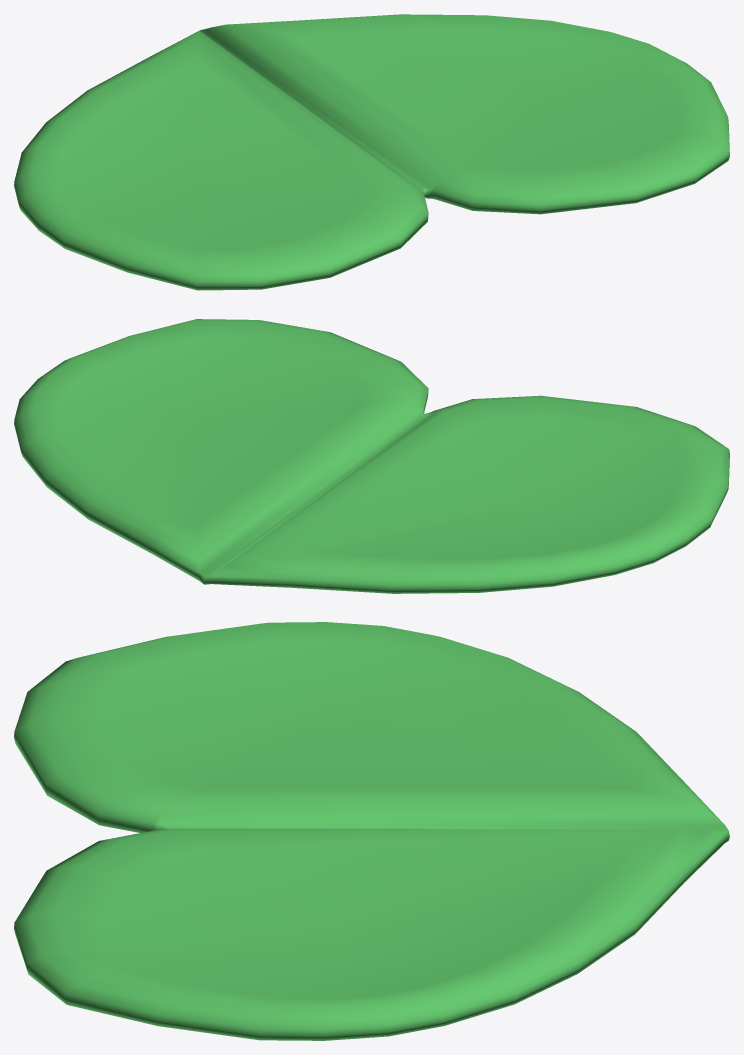
Rendered from Clover.fbx.
3 views of the same model, one above another, from view 1: azimuth 30°, elevation 25°; view 2: azimuth 150°, elevation 25°; view 3: azimuth 270°, elevation 25° (orthographic). The views are drawn at different scales.
Visible parts, largest first — view 1: Clover; view 2: Clover; view 3: Clover.
Boxes of the visible parts, <box> form: Clover: <box>14,14,729,290</box>; Clover: <box>14,319,729,593</box>; Clover: <box>14,622,729,1040</box>.
Size of what is drawn, in the model's own units: 8.38 by 1.06 by 6.25.
